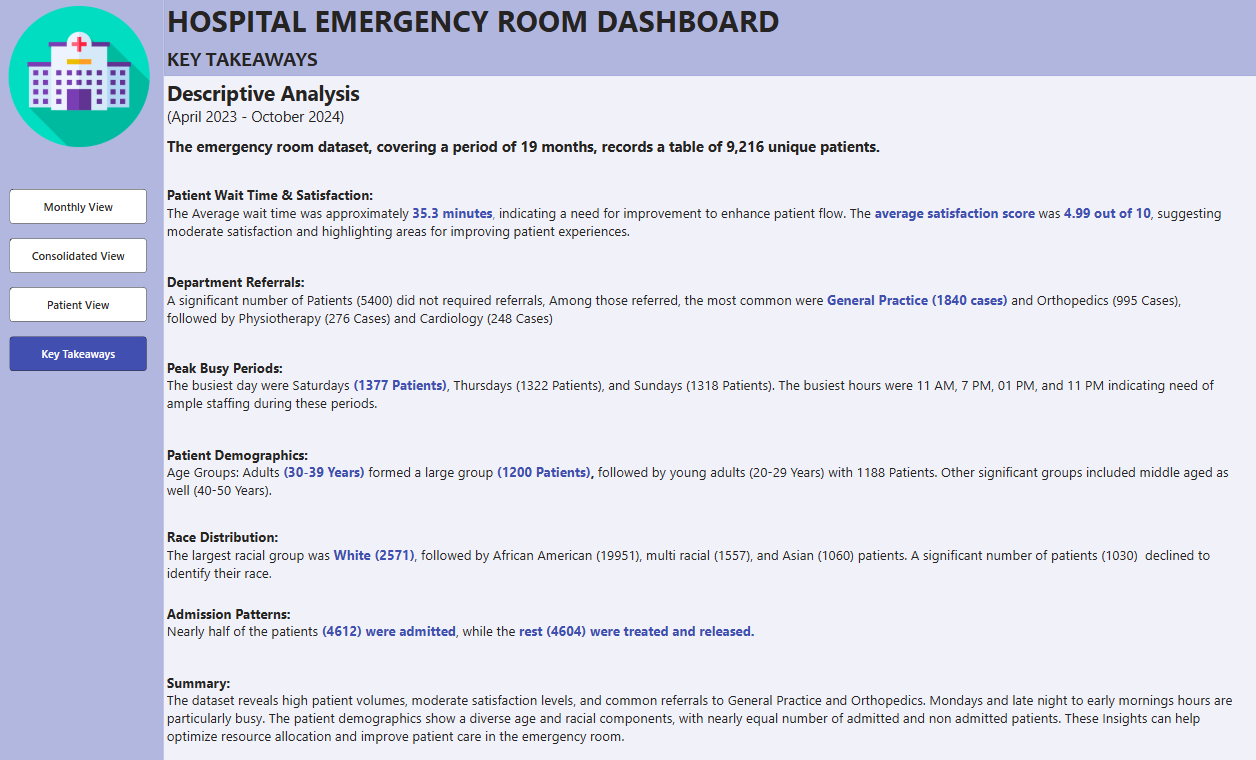

Layout of this report page (visuals, bound fields, positions):
{"tool":"powerbi","page":{"name":"Key Takeaways","canvas":[2300,1400],"ordinal":3},"visuals":[{"type":"shape","box":[0,0,309.1,1400],"z":0},{"type":"shape","box":[309.4,3.1,1991,140.6],"z":1000},{"type":"textbox","box":[309.1,0,1657.6,115.2],"z":2000},{"type":"textbox","box":[309.4,84.4,478.1,59.4],"z":3000},{"type":"pageNavigator","box":[29.7,348,249.8,330.1],"z":5000},{"type":"textbox","box":[310.2,337.6,1945.4,127.9],"z":6000},{"type":"textbox","box":[310.2,495.6,1945.4,125.2],"z":7000},{"type":"textbox","box":[310.2,144.2,1945.4,163.3],"z":8000},{"type":"textbox","box":[310.2,650.9,1945.4,127.9],"z":9000},{"type":"textbox","box":[310.2,808.9,1945.4,119.7],"z":10000},{"type":"textbox","box":[310.2,958.8,1945.4,108.8],"z":11000},{"type":"textbox","box":[310.2,1097.8,1945.4,92.5],"z":12000},{"type":"textbox","box":[310.2,1220.4,1945.4,179.6],"z":13000},{"type":"image","box":[16.3,10.9,280.2,266.6],"z":13001}]}

Visuals, with their boxes in screenshot pixels (x1, y1, x2, y2), scaled from the page's 2300x1400 canvas onto the 1256x760 screenshot:
shape: region(0, 0, 169, 759)
shape: region(169, 2, 1255, 78)
textbox: region(169, 0, 1074, 63)
textbox: region(169, 46, 430, 78)
pageNavigator: region(16, 189, 153, 368)
textbox: region(169, 183, 1232, 253)
textbox: region(169, 269, 1232, 337)
textbox: region(169, 78, 1232, 167)
textbox: region(169, 353, 1232, 423)
textbox: region(169, 439, 1232, 504)
textbox: region(169, 520, 1232, 580)
textbox: region(169, 596, 1232, 646)
textbox: region(169, 663, 1232, 759)
image: region(9, 6, 162, 151)
